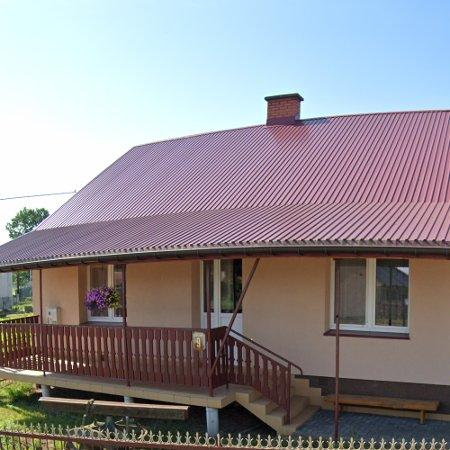chimneys: (265, 93, 304, 125)
stairs: (227, 331, 319, 435)
